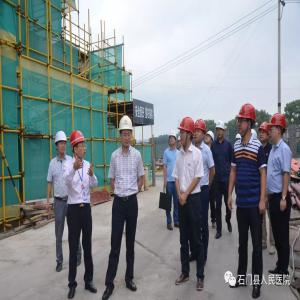red: (237, 103, 258, 140), (269, 113, 287, 144), (70, 130, 88, 160), (180, 118, 195, 148), (258, 122, 271, 145), (195, 119, 206, 143)
white: (118, 115, 134, 149), (55, 131, 69, 155), (216, 121, 227, 141), (205, 131, 215, 147), (169, 131, 177, 147), (177, 136, 183, 149)
